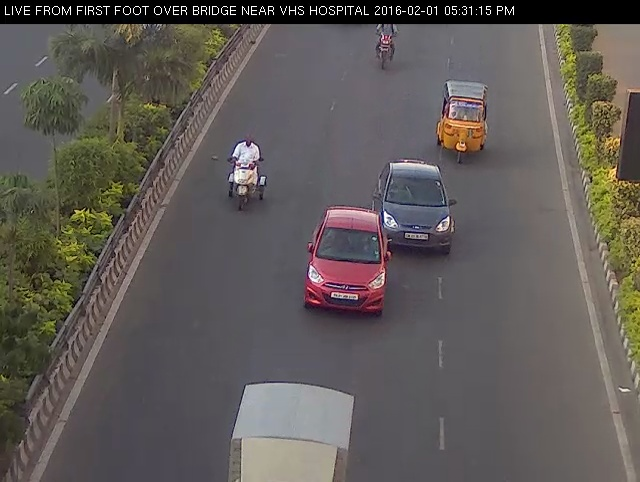Auto: (209, 368, 364, 482), (429, 68, 500, 170)
Car: (294, 194, 397, 325), (369, 155, 462, 260)
Person: (215, 128, 272, 218), (371, 9, 400, 82)
